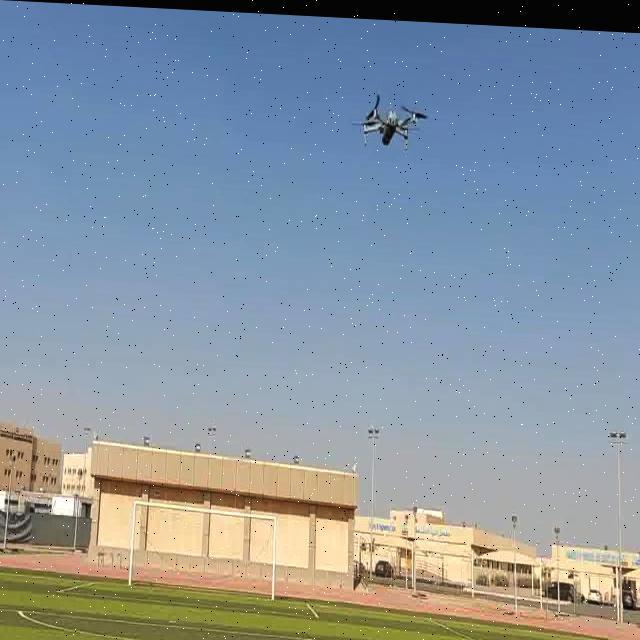drone: (352, 85, 430, 153)
